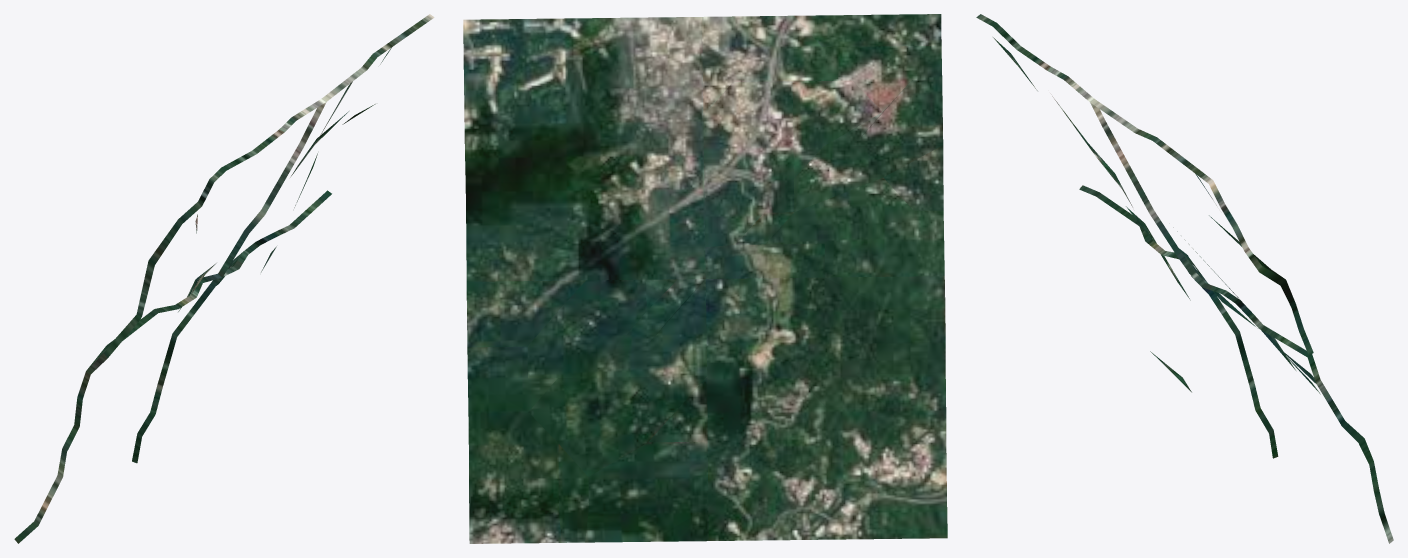
3 views of the same model, side by side, from view 1: azimuth 30°, elevation 25°; view 2: azimuth 150°, elevation 25°; view 3: azimuth 270°, elevation 25° (orthographic). The views are drawn at different scales.
Bounding box in the file's own units: 4979 × 4469 × 4102.
1 material, 1 textured.
